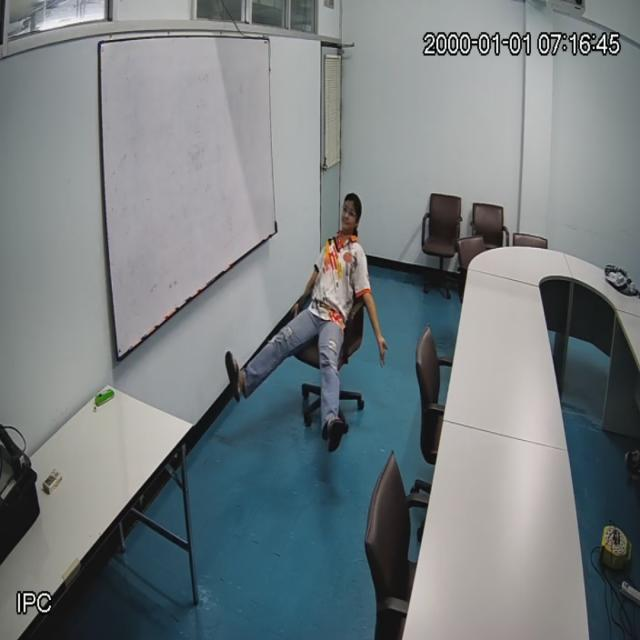normal: (292, 190, 372, 428)
